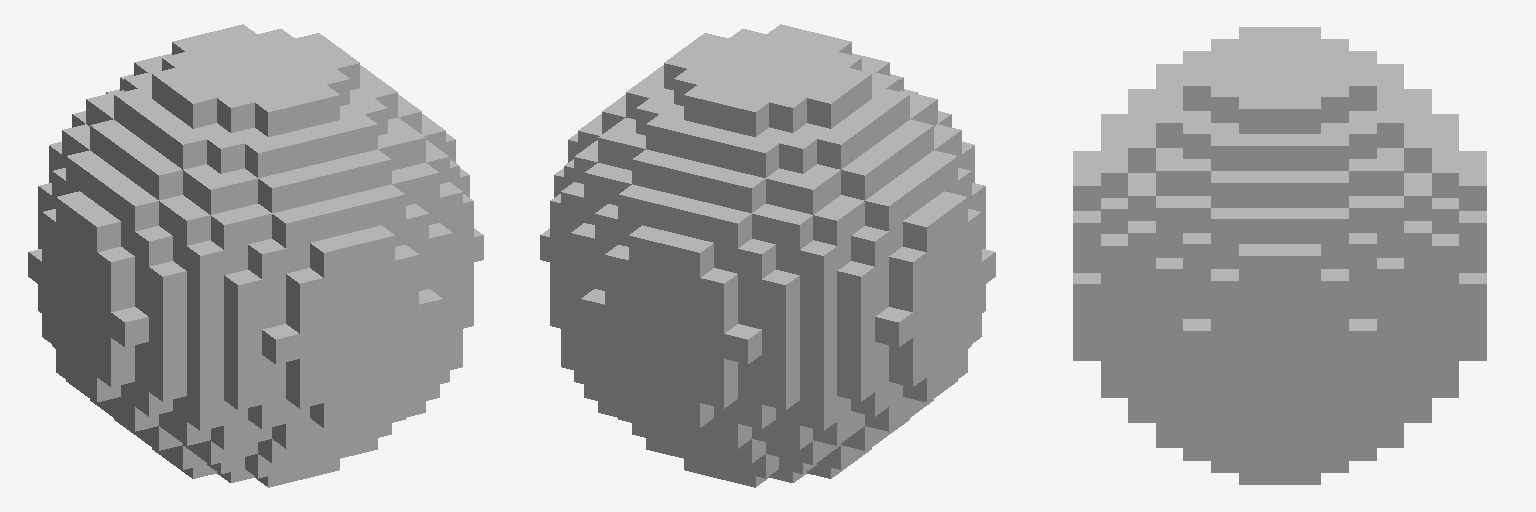
Rendered from snowball.obj.
3 renders of one model, left to right at view 1: azimuth 30°, elevation 25°; view 2: azimuth 150°, elevation 25°; view 3: azimuth 270°, elevation 25°, orthographic.
Visible parts, largest first — view 1: Sphere; view 2: Sphere; view 3: Sphere.
Boxes of the visible parts, x1,y1,x2,y2 form: Sphere: [28, 24, 483, 487]; Sphere: [540, 24, 995, 487]; Sphere: [1073, 27, 1486, 484].
Bounding box in the file's own units: 0.9725 × 0.9725 × 0.9725.